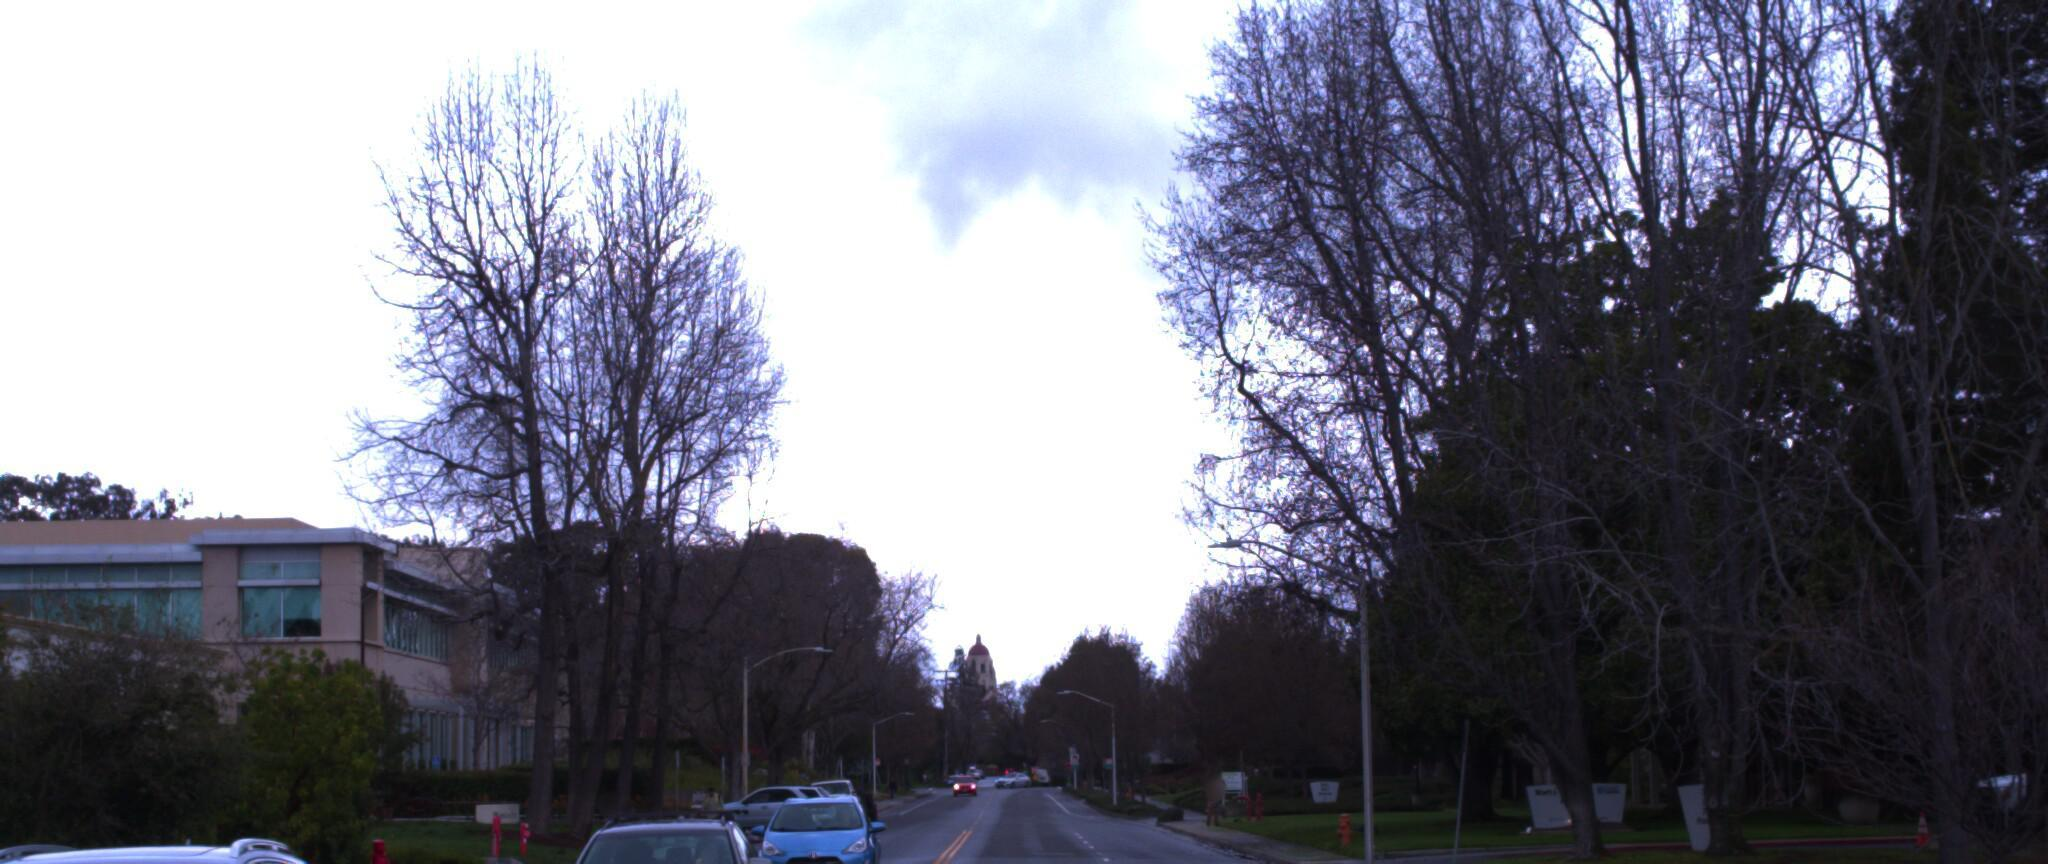car: (0, 813, 424, 864), (547, 794, 793, 864), (756, 784, 886, 864)
